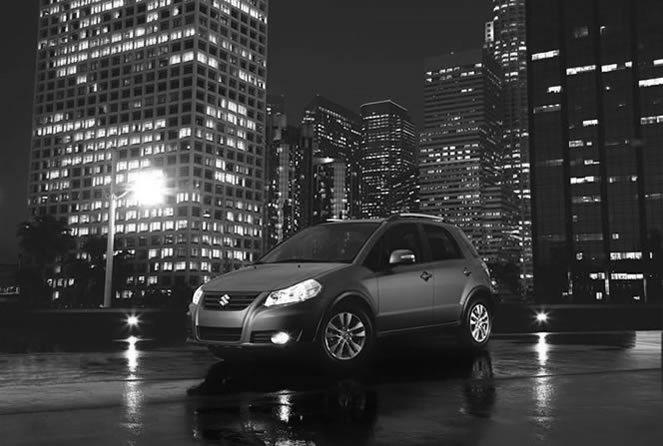car: (189, 213, 499, 378)
